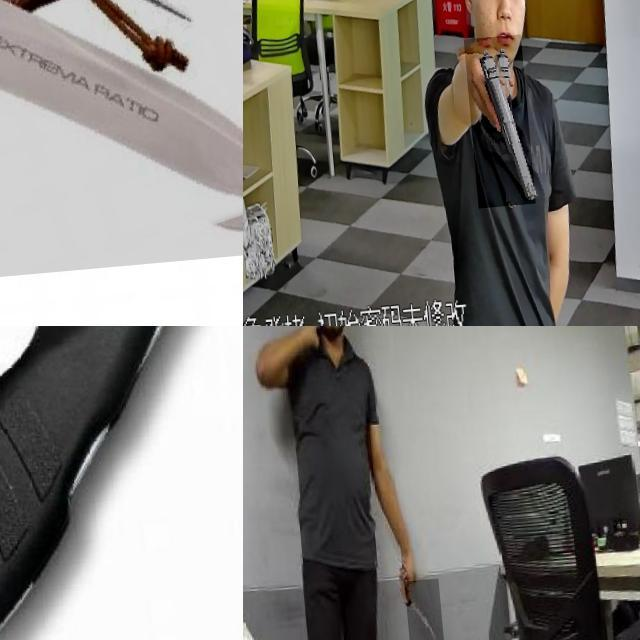-: (0, 0, 243, 285), (0, 326, 229, 437), (395, 583, 435, 640)
gun-knife-thesis - v11 Yolov5 augmented: (458, 42, 526, 215)
